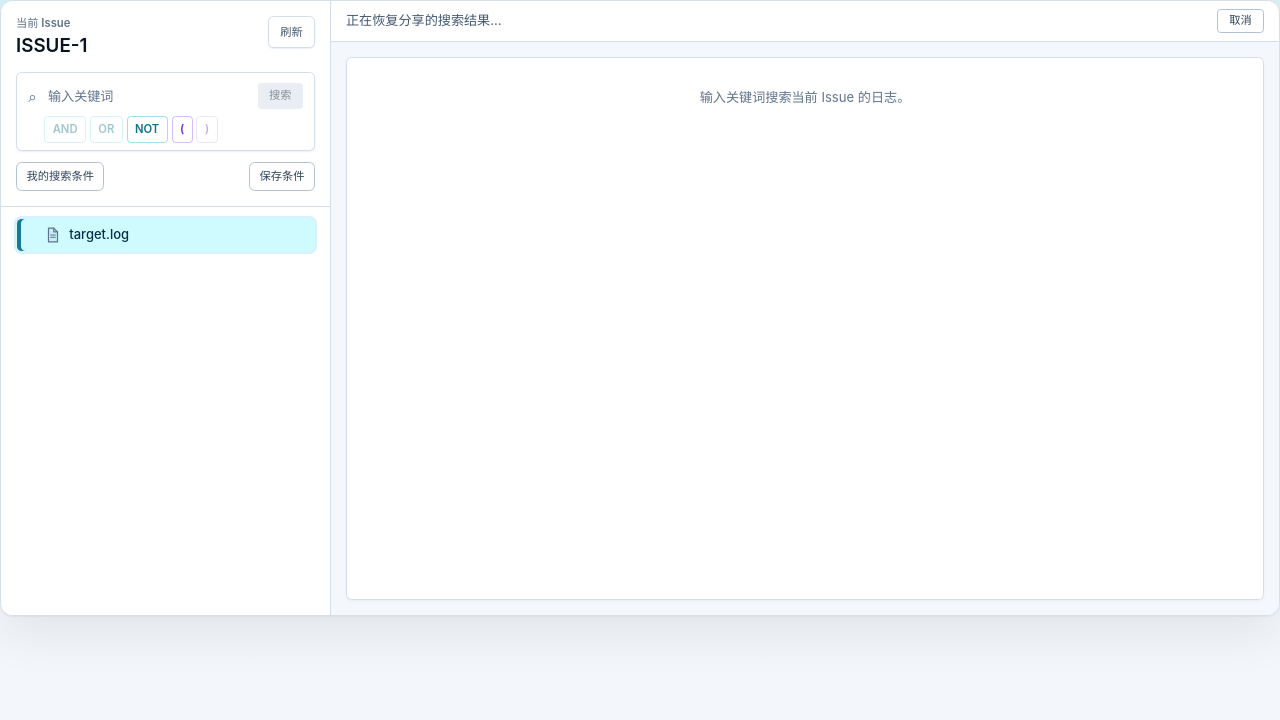
Scenario: shared file search restoration › lets a cancelled shared search be retried after its validation settles
This screenshot has width=1280, height=720.
Click the button "取消" at (1240, 21), box [1217,8,1264,33]
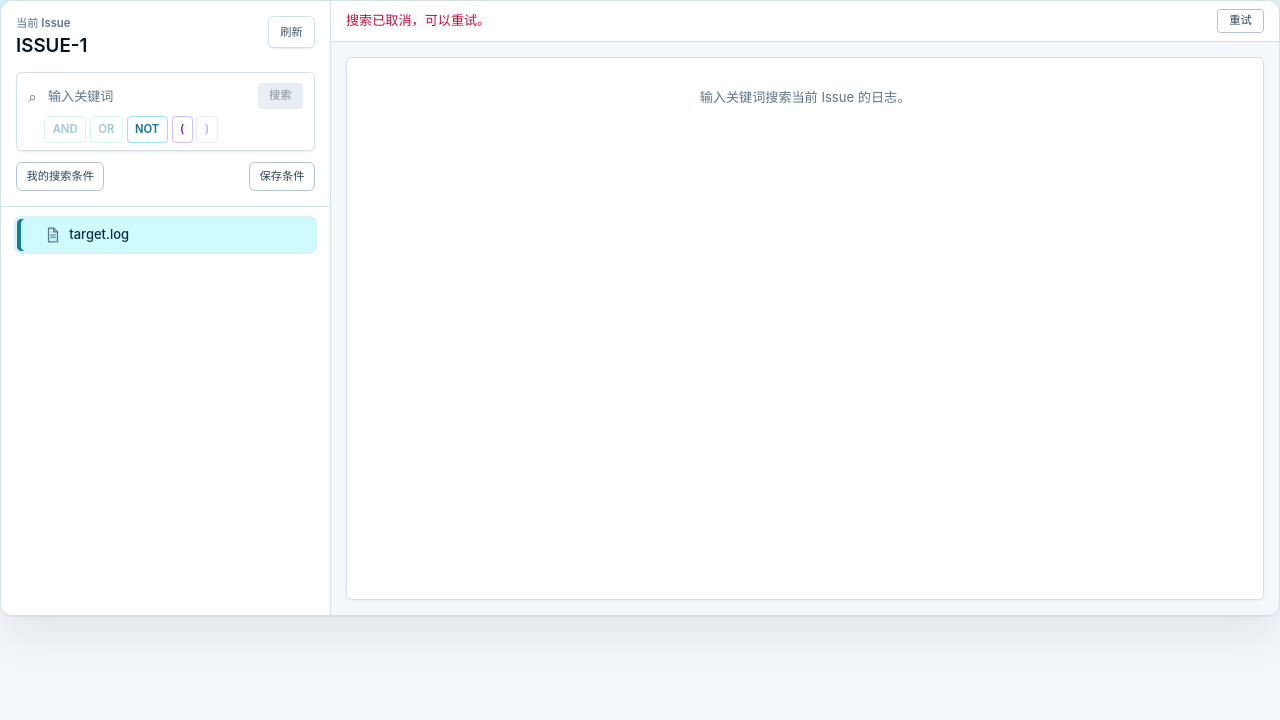
Check: the message shows "搜索已取消", box [346,12,490,28]
Click the button "重试" at (1240, 21), box [1217,8,1264,33]
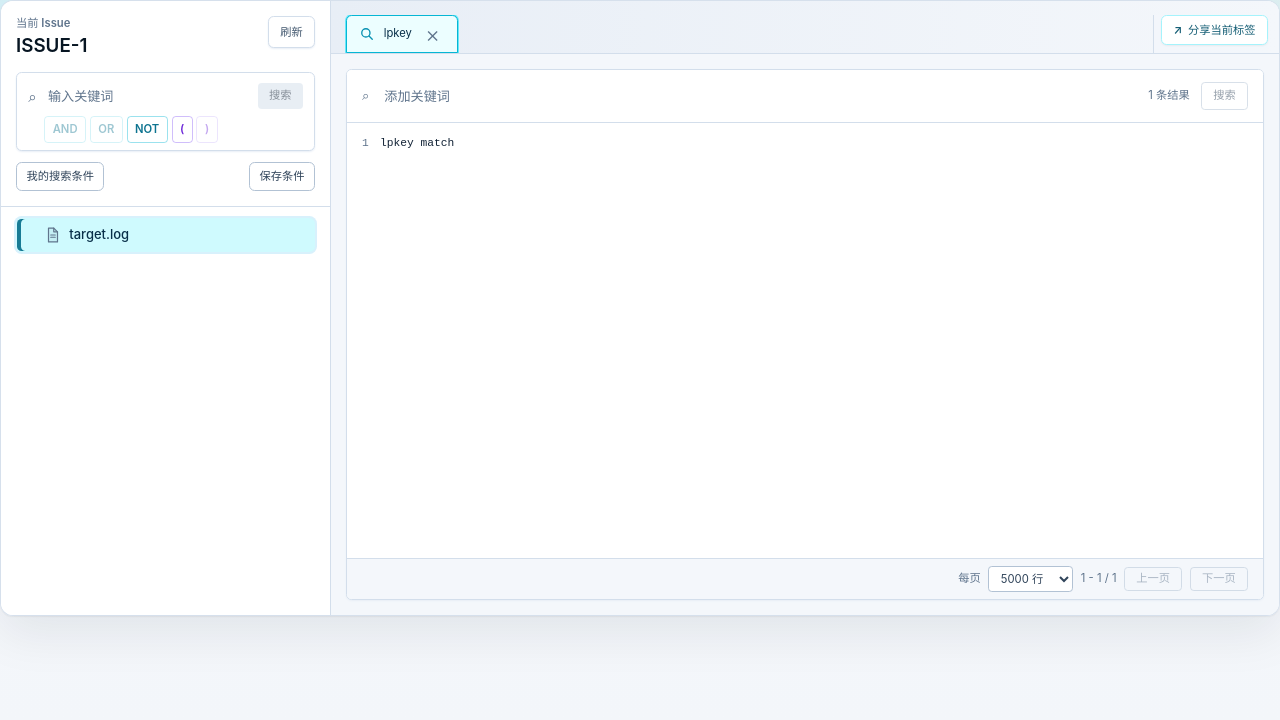
Check: the text "lpkey match" is shown, box [380,137,454,149]
